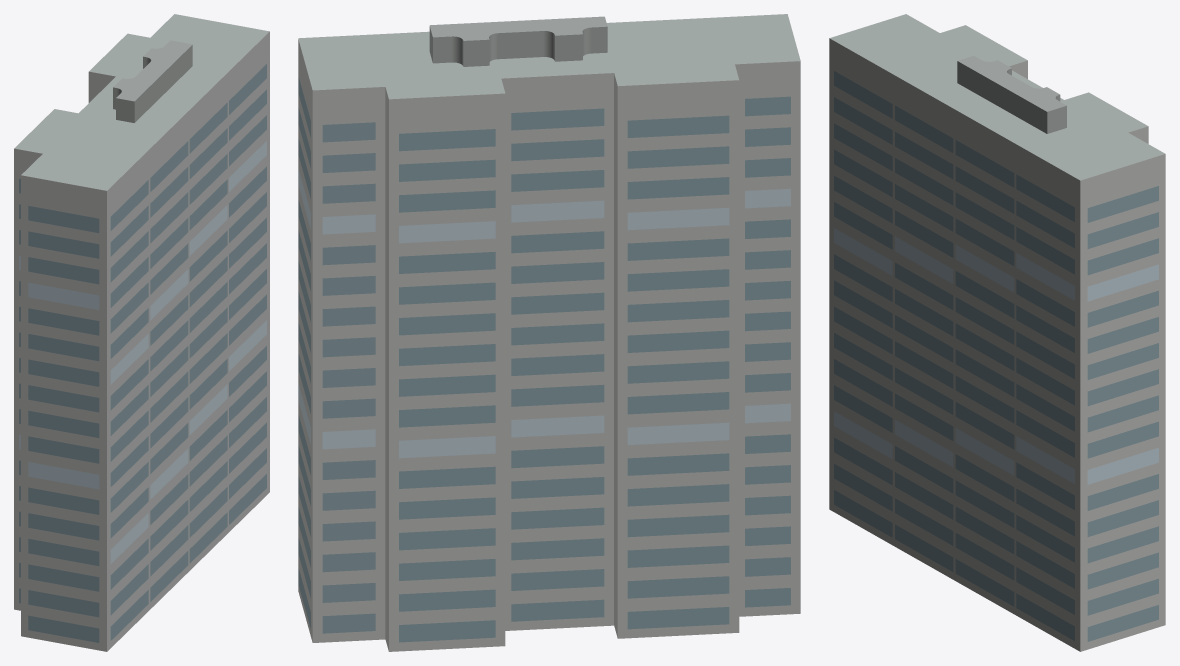
File: fallback-gaepo-raemian-forest-103.glb
The picture shows the model from 3 angles, left to right: view 1: azimuth 30°, elevation 25°; view 2: azimuth 150°, elevation 25°; view 3: azimuth 270°, elevation 25°; orthographic projection. The views are drawn at different scales.
Parts seen in each view (by area): view 1: fallback-gaepo-raemian-forest-103; view 2: fallback-gaepo-raemian-forest-103; view 3: fallback-gaepo-raemian-forest-103.
Boxes of the visible parts, <box> form: fallback-gaepo-raemian-forest-103: <box>14,14,269,651</box>; fallback-gaepo-raemian-forest-103: <box>298,14,800,651</box>; fallback-gaepo-raemian-forest-103: <box>829,14,1165,651</box>.
Size of the model in its own units: 38.38 by 53 by 32.73.
